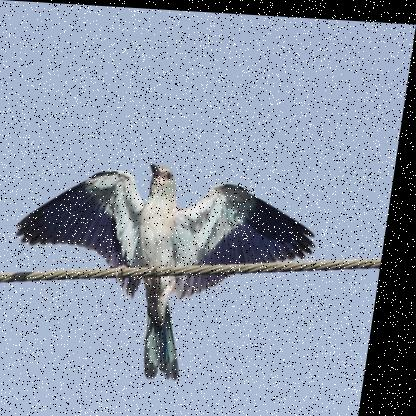Burung: (7, 158, 334, 383)
